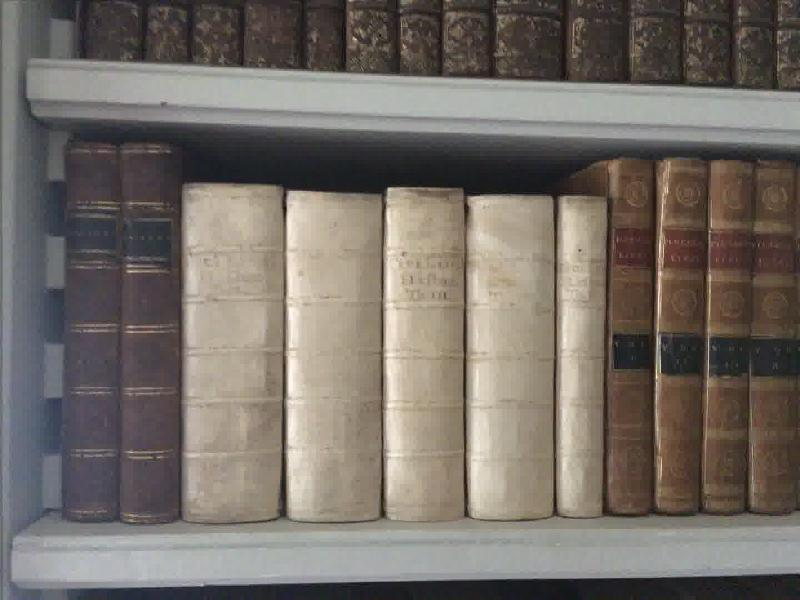Kk4-1_2: (63, 134, 184, 534)
Kk4-3_7: (182, 165, 607, 518)
Kk4-8_13: (605, 155, 800, 525)
